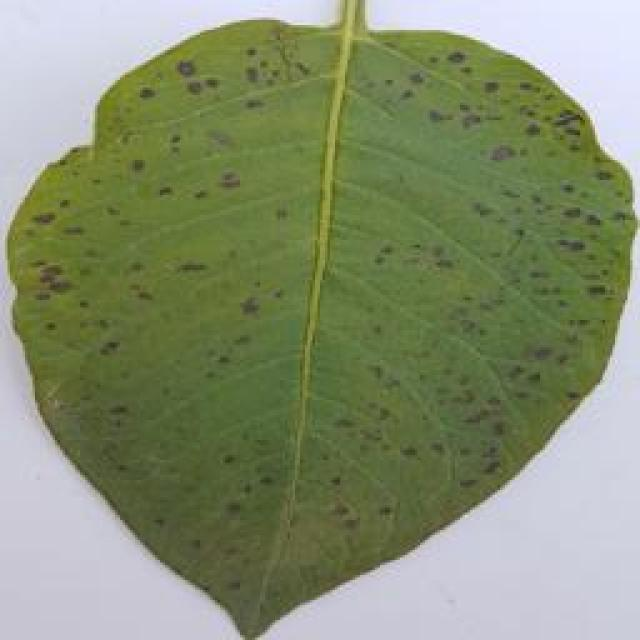Potato_Early_Blight: (9, 14, 640, 629)
